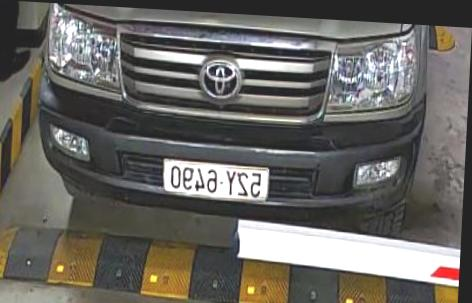License_Plate: (151, 152, 280, 208)
